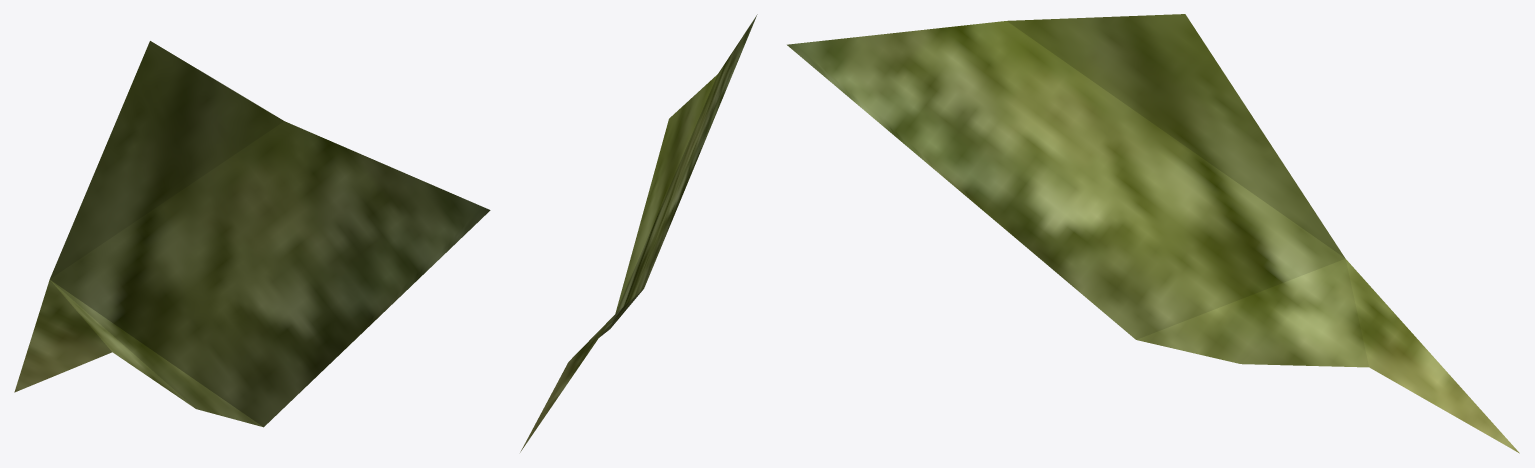
The picture shows the model from 3 angles, left to right: view 1: azimuth 30°, elevation 25°; view 2: azimuth 150°, elevation 25°; view 3: azimuth 270°, elevation 25°; orthographic projection. The views are drawn at different scales.
Bounding box in the file's own units: 0.0943 × 0.5857 × 0.952.
Materials: 1 (1 with a texture image).
